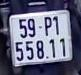1: (52, 14, 61, 36), (48, 37, 57, 58), (59, 38, 67, 58)
5: (17, 18, 28, 39), (14, 40, 24, 62), (25, 39, 35, 61)
8: (36, 39, 46, 61)
9: (28, 18, 37, 39)
P: (43, 15, 52, 38)
